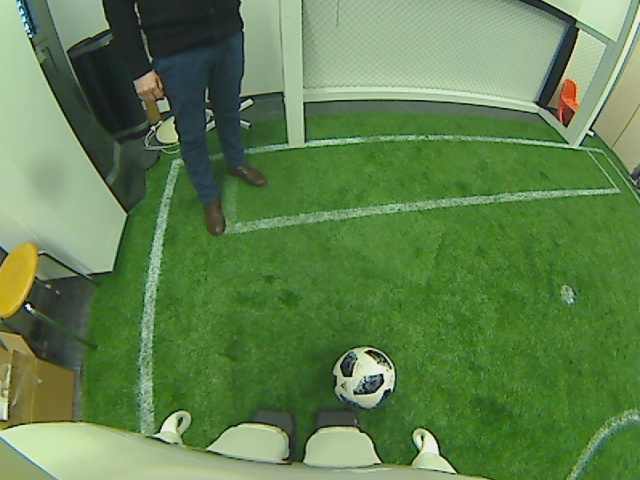ball: (329, 341, 395, 411)
